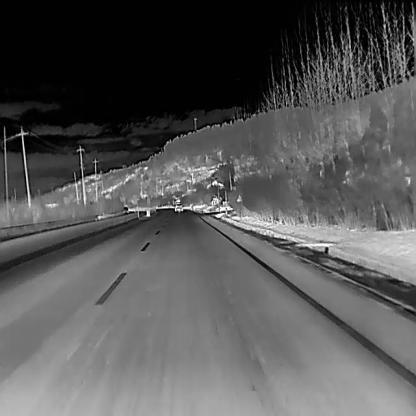car: (175, 201, 184, 211), (122, 205, 130, 215)
